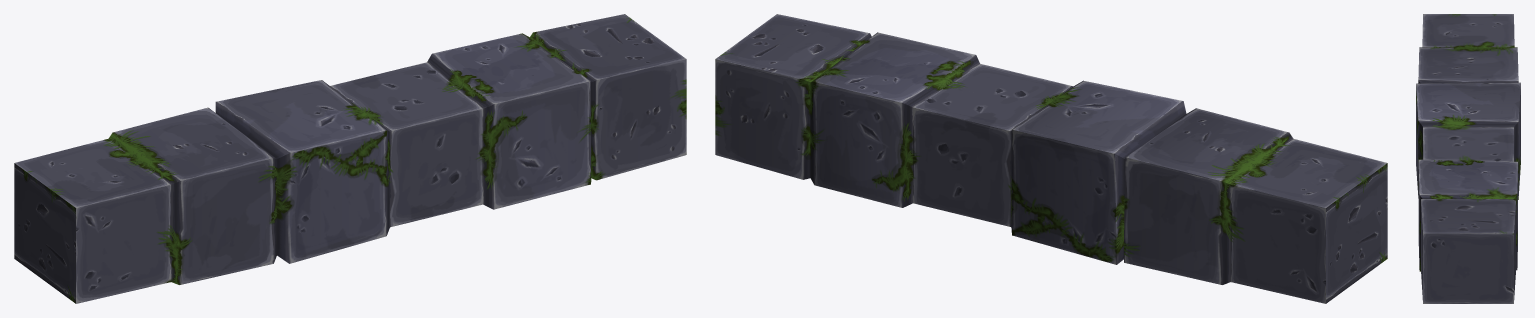
File: MOD_WallCover_01_E_straight.fbx
3 renders of one model, left to right at view 1: azimuth 30°, elevation 25°; view 2: azimuth 150°, elevation 25°; view 3: azimuth 270°, elevation 25°, orthographic. The views are drawn at different scales.
Parts seen in each view (by area): view 1: MOD_WallCover_01_E_straight; view 2: MOD_WallCover_01_E_straight; view 3: MOD_WallCover_01_E_straight.
Part boxes in pixels (x1,y1,x2,y2): MOD_WallCover_01_E_straight: (14, 14, 686, 303); MOD_WallCover_01_E_straight: (715, 14, 1387, 303); MOD_WallCover_01_E_straight: (1416, 14, 1520, 303).
Size of the model in its own units: 400 by 69.33 by 80.8.
